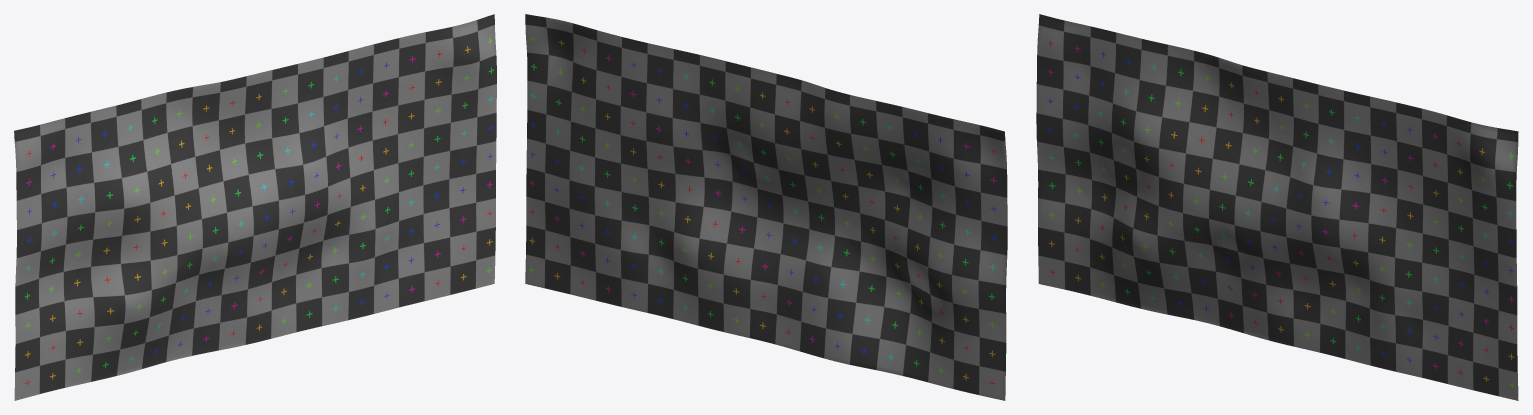
The model's file is terrain.dae.
3 views of the same model, side by side, from view 1: azimuth 30°, elevation 25°; view 2: azimuth 150°, elevation 25°; view 3: azimuth 330°, elevation 25° (orthographic).
Visible parts, largest first — view 1: model; view 2: model; view 3: model.
Part boxes in pixels (box(x1,y1,x2,y2)): model: box(14, 14, 496, 400); model: box(525, 14, 1007, 400); model: box(1036, 14, 1518, 400).
Bounding box in the file's own units: 54 × 29 × 2.2.
